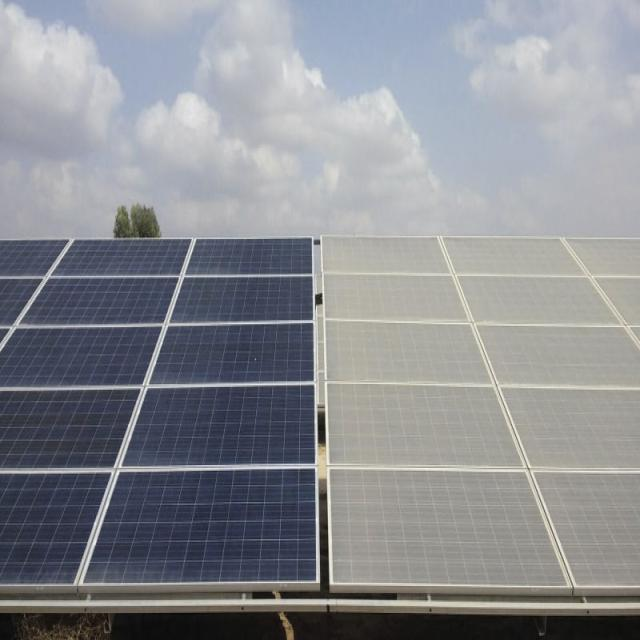dust-solar-panel: (324, 236, 640, 592)
